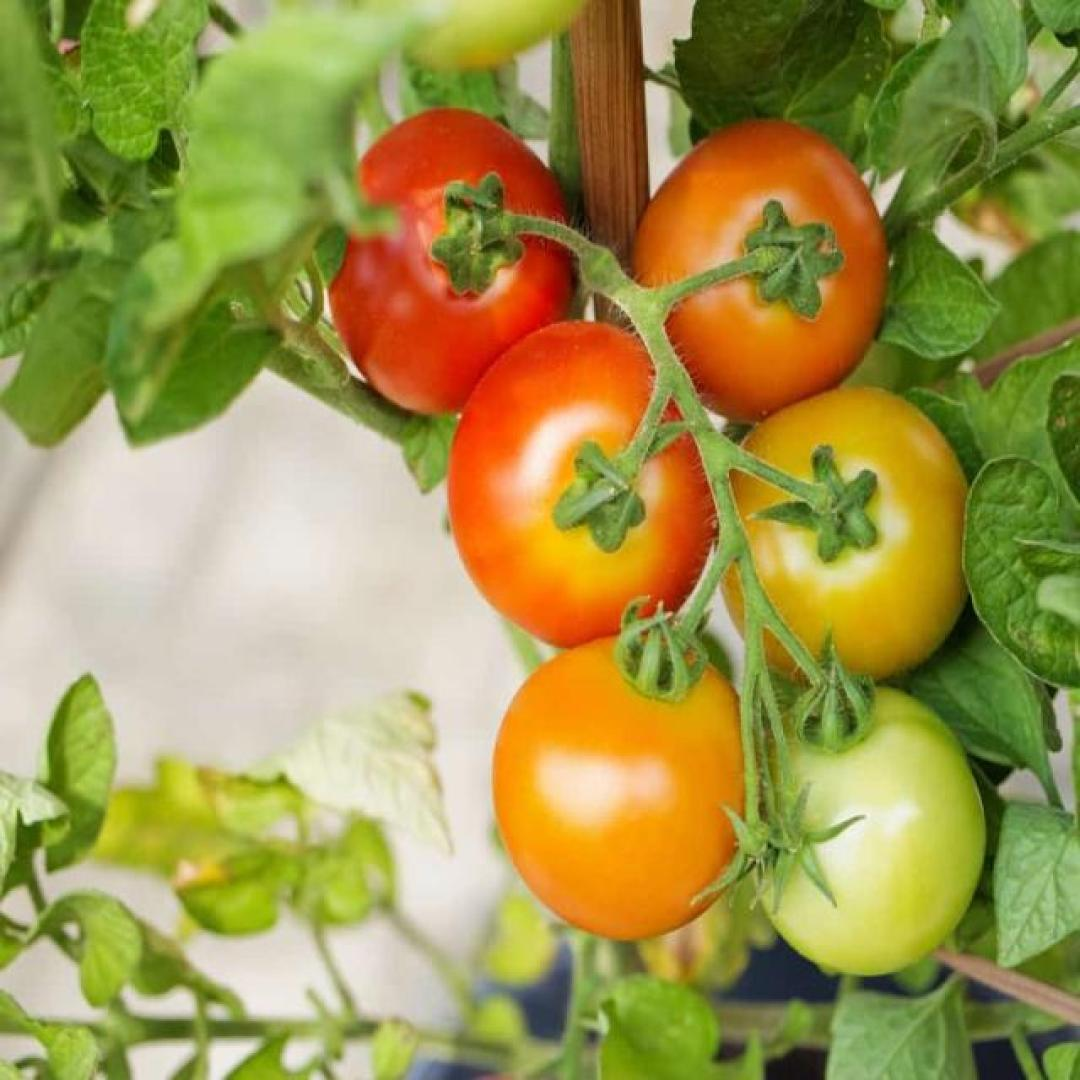matang: (324, 105, 574, 420)
mentah: (744, 680, 987, 980)
setengah_matang: (444, 318, 722, 652), (488, 633, 754, 943), (626, 120, 893, 427), (718, 382, 976, 690)
